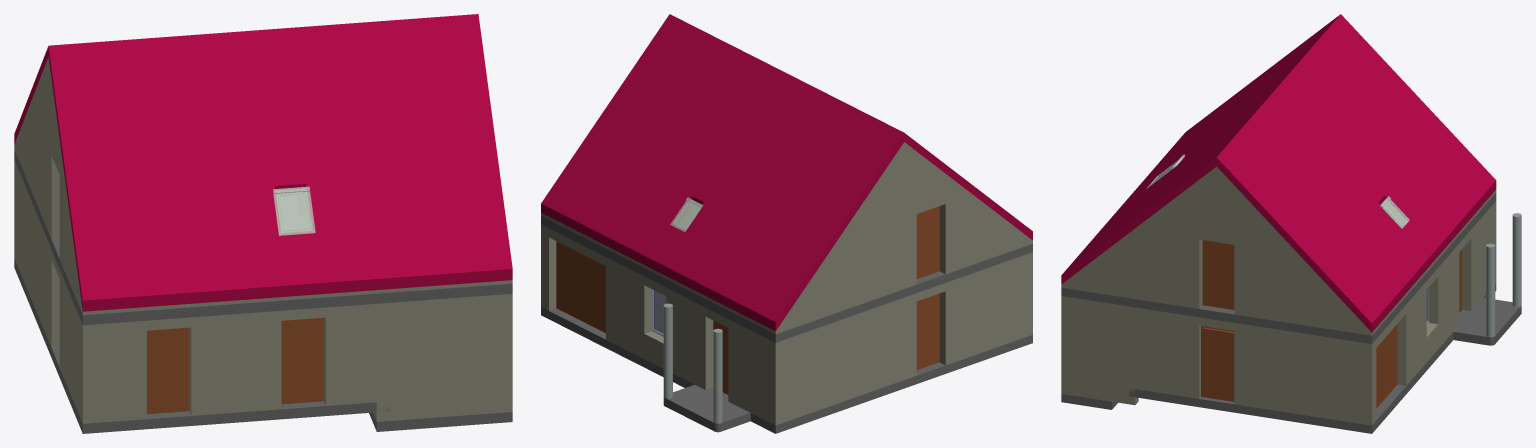
Rendered from ptitemaison.dae.
3 views of the same model, side by side, from view 1: azimuth 30°, elevation 25°; view 2: azimuth 150°, elevation 25°; view 3: azimuth 270°, elevation 25° (orthographic). The views are drawn at different scales.
Visible parts, largest first — view 1: 3CN3XcBOD72hCl4qfSLNgQ, 1iSKq$8HT2UvXyfHrxgRuh, 1iSKq$8HT2UvXyfHrxgRu$, 1iSKq$8HT2UvXyfHrxgRul, 19UiPE7yXDZBvVrGcrlolO, 19UiPE7yXDZBvVrGcrloXa, 19UiPE7yXDZBvVrGcrloln, 2LwMM57mfD7uRHtjar6C4J, 2LwMM57mfD7uRHtjar6C5q, 0sMat_7Wb3ywHr6aP6S3l4, 2IKxC1ofT8OBwFq6rKcEEZ, 1iSKq$8HT2UvXyfHrxgRux (+2 smaller); view 2: 0OWTW_jKzDbgTdpI6p5Dqe, 1iSKq$8HT2UvXyfHrxgRul, 19UiPE7yXDZBvVrGcrlolO, 1iSKq$8HT2UvXyfHrxgRuZ, 19UiPE7yXDZBvVrGcrloln, 19UiPE7yXDZBvVrGcrloXa, 2IKxC1ofT8OBwFq6rKcEkN, 1iSKq$8HT2UvXyfHrxgRut, 2LwMM57mfD7uRHtjar6JwF, 2LwMM57mfD7uRHtjar6CQV, 3CN3XcBOD72hCl4qfSLNgQ, 19UiPE7yXDZBvVrGcrlog0 (+6 smaller); view 3: 0OWTW_jKzDbgTdpI6p5Dqe, 19UiPE7yXDZBvVrGcrlolS, 19UiPE7yXDZBvVrGcrlojC, 3CN3XcBOD72hCl4qfSLNgQ, 1iSKq$8HT2UvXyfHrxgRup, 1iSKq$8HT2UvXyfHrxgRuZ, 19UiPE7yXDZBvVrGcrloln, 19UiPE7yXDZBvVrGcrloXa, 2LwMM57mfD7uRHtjar6JgN, 1iSKq$8HT2UvXyfHrxgRut, 2LwMM57mfD7uRHtjar6Cbw, 2IKxC1ofT8OBwFq6rKcEkN (+3 smaller).
Boxes of the visible parts, x1=… form: 3CN3XcBOD72hCl4qfSLNgQ: x1=48, y1=14, x2=512, y2=311; 1iSKq$8HT2UvXyfHrxgRuh: x1=96, y1=303, x2=376, y2=422; 1iSKq$8HT2UvXyfHrxgRu$: x1=390, y1=294, x2=501, y2=420; 1iSKq$8HT2UvXyfHrxgRul: x1=16, y1=165, x2=96, y2=423; 19UiPE7yXDZBvVrGcrlolO: x1=14, y1=57, x2=96, y2=315; 19UiPE7yXDZBvVrGcrloXa: x1=14, y1=150, x2=512, y2=325; 19UiPE7yXDZBvVrGcrloln: x1=14, y1=258, x2=389, y2=433; 2LwMM57mfD7uRHtjar6C4J: x1=147, y1=327, x2=189, y2=414; 2LwMM57mfD7uRHtjar6C5q: x1=281, y1=317, x2=323, y2=404; 0sMat_7Wb3ywHr6aP6S3l4: x1=273, y1=186, x2=315, y2=235; 2IKxC1ofT8OBwFq6rKcEEZ: x1=96, y1=281, x2=498, y2=314; 1iSKq$8HT2UvXyfHrxgRux: x1=373, y1=303, x2=389, y2=421; 0OWTW_jKzDbgTdpI6p5Dqe: x1=541, y1=14, x2=904, y2=331; 1iSKq$8HT2UvXyfHrxgRul: x1=784, y1=252, x2=1032, y2=421; 19UiPE7yXDZBvVrGcrlolO: x1=768, y1=142, x2=1032, y2=334; 1iSKq$8HT2UvXyfHrxgRuZ: x1=615, y1=262, x2=784, y2=425; 19UiPE7yXDZBvVrGcrloln: x1=541, y1=307, x2=1032, y2=433; 19UiPE7yXDZBvVrGcrloXa: x1=541, y1=216, x2=1032, y2=342; 2IKxC1ofT8OBwFq6rKcEkN: x1=556, y1=241, x2=605, y2=332; 1iSKq$8HT2UvXyfHrxgRut: x1=541, y1=224, x2=607, y2=340; 2LwMM57mfD7uRHtjar6JwF: x1=916, y1=293, x2=939, y2=369; 2LwMM57mfD7uRHtjar6CQV: x1=916, y1=206, x2=939, y2=278; 3CN3XcBOD72hCl4qfSLNgQ: x1=904, y1=133, x2=1032, y2=240; 19UiPE7yXDZBvVrGcrlog0: x1=608, y1=258, x2=666, y2=343; 0OWTW_jKzDbgTdpI6p5Dqe: x1=1216, y1=14, x2=1496, y2=332; 19UiPE7yXDZBvVrGcrlolS: x1=1061, y1=166, x2=1375, y2=335; 19UiPE7yXDZBvVrGcrlojC: x1=1135, y1=307, x2=1362, y2=424; 3CN3XcBOD72hCl4qfSLNgQ: x1=1061, y1=15, x2=1339, y2=284; 1iSKq$8HT2UvXyfHrxgRup: x1=1061, y1=296, x2=1138, y2=405; 1iSKq$8HT2UvXyfHrxgRuZ: x1=1411, y1=201, x2=1496, y2=379; 19UiPE7yXDZBvVrGcrloln: x1=1129, y1=282, x2=1521, y2=433; 19UiPE7yXDZBvVrGcrloXa: x1=1061, y1=193, x2=1496, y2=343; 2LwMM57mfD7uRHtjar6JgN: x1=1201, y1=326, x2=1234, y2=401; 1iSKq$8HT2UvXyfHrxgRut: x1=1363, y1=303, x2=1407, y2=425; 2LwMM57mfD7uRHtjar6Cbw: x1=1202, y1=240, x2=1234, y2=309; 2IKxC1ofT8OBwFq6rKcEkN: x1=1376, y1=324, x2=1397, y2=408.
Bounding box in the file's own units: 12.33 × 12.54 × 8.08.
